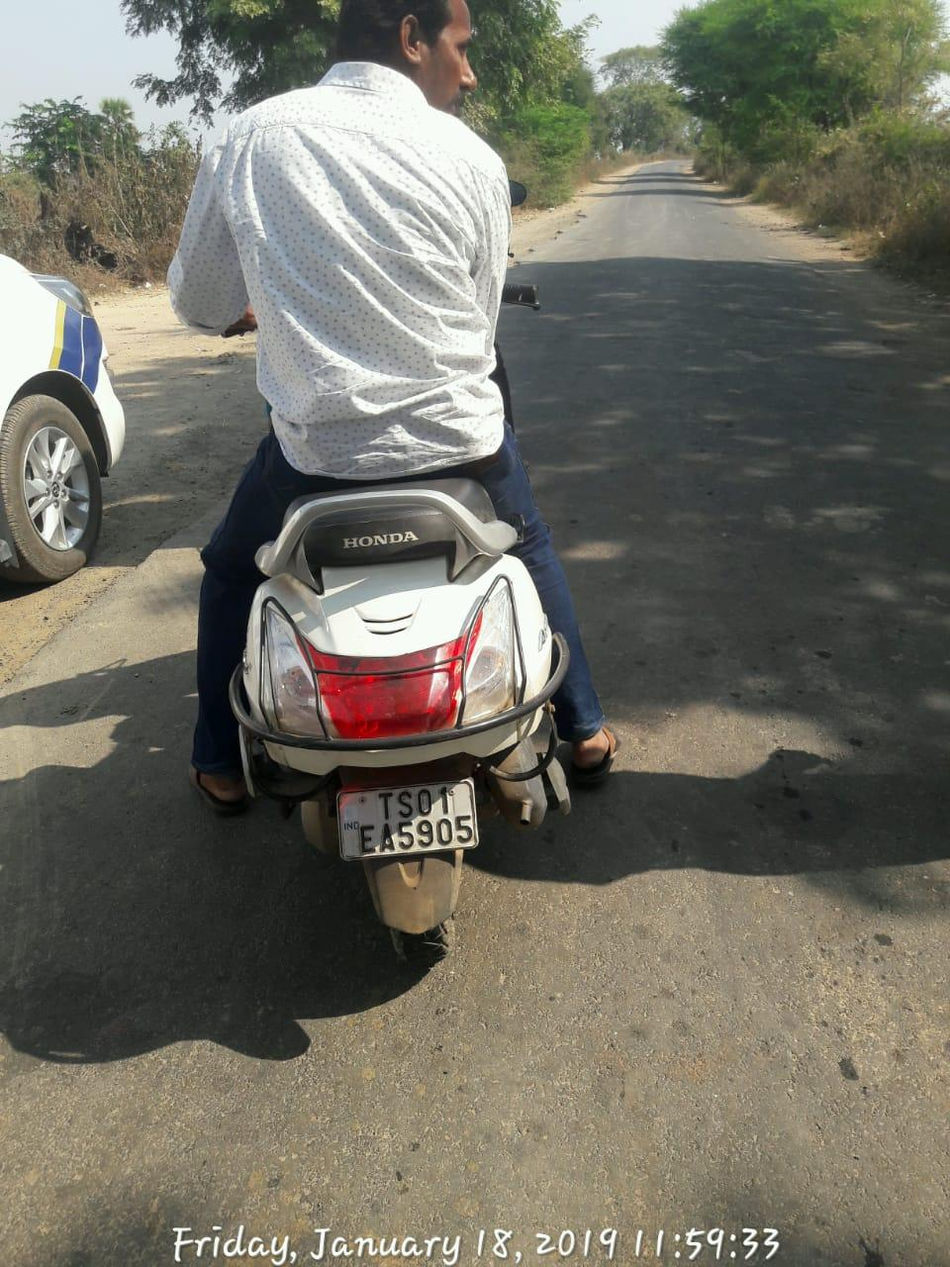plate: (334, 776, 488, 869)
